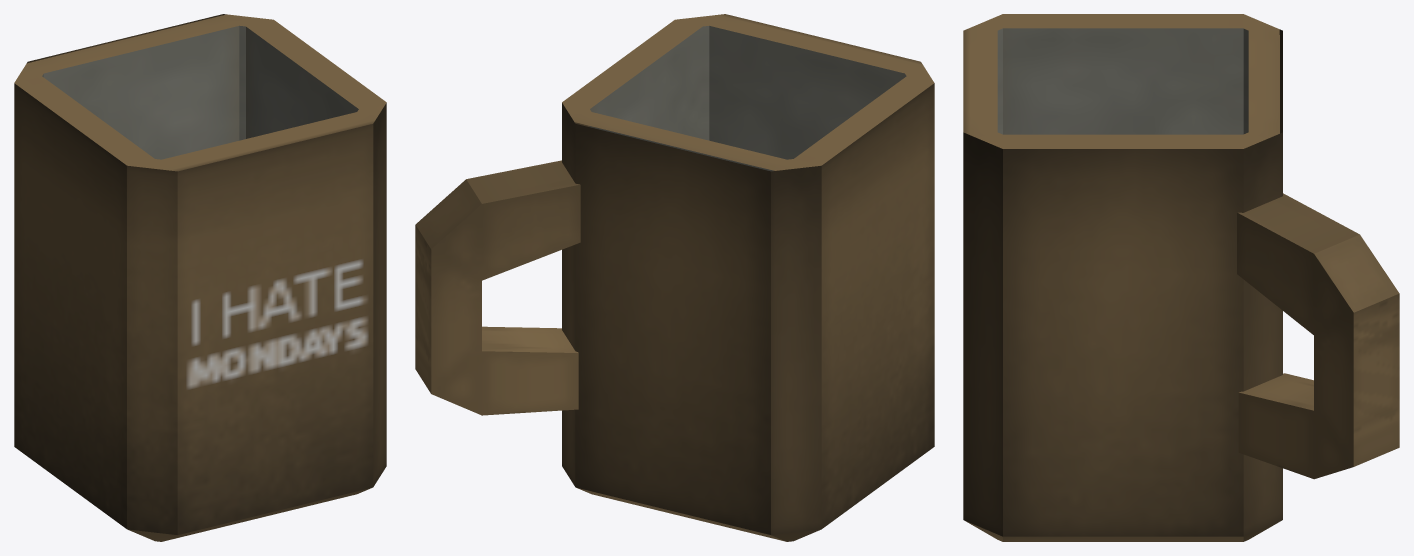
Rendered from MugOrange.fbx.
The picture shows the model from 3 angles, left to right: view 1: azimuth 30°, elevation 25°; view 2: azimuth 150°, elevation 25°; view 3: azimuth 270°, elevation 25°; orthographic projection. The views are drawn at different scales.
Visible parts, largest first — view 1: MugOrange; view 2: MugOrange; view 3: MugOrange.
Boxes of the visible parts, x1,y1,x2,y2 form: MugOrange: [14, 14, 386, 541]; MugOrange: [415, 14, 934, 541]; MugOrange: [963, 14, 1399, 541].
Size of the model in its own units: 0.0881 by 0.0908 by 0.0881.
1 material, 1 textured.
